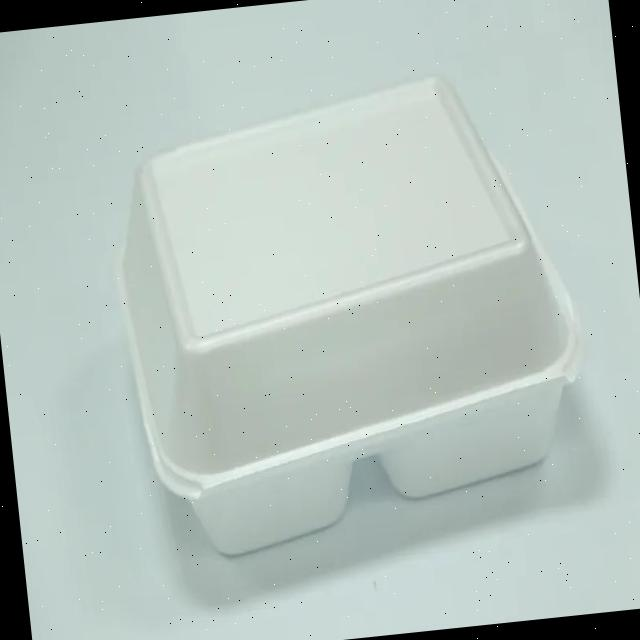styrofoam: (100, 58, 601, 566)
